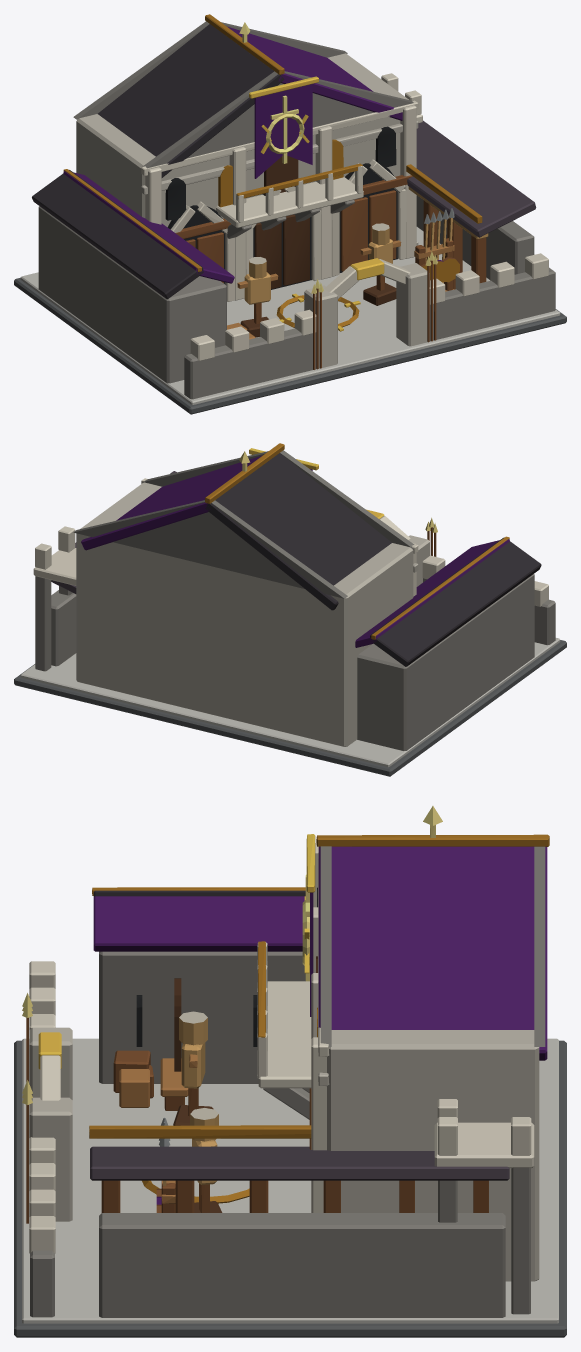
3 views of the same model, one above another, from view 1: azimuth 30°, elevation 25°; view 2: azimuth 150°, elevation 25°; view 3: azimuth 270°, elevation 25° (orthographic). The views are drawn at different scales.
Parts seen in each view (by area): view 1: WK_CityBarracks_LOD2_Compact; view 2: WK_CityBarracks_LOD2_Compact; view 3: WK_CityBarracks_LOD2_Compact.
Boxes of the visible parts, x1,y1,x2,y2 form: WK_CityBarracks_LOD2_Compact: (14,14,566,414); WK_CityBarracks_LOD2_Compact: (14,443,566,776); WK_CityBarracks_LOD2_Compact: (14,806,566,1337).
Bounding box in the file's own units: 16 × 10.1 × 13.
